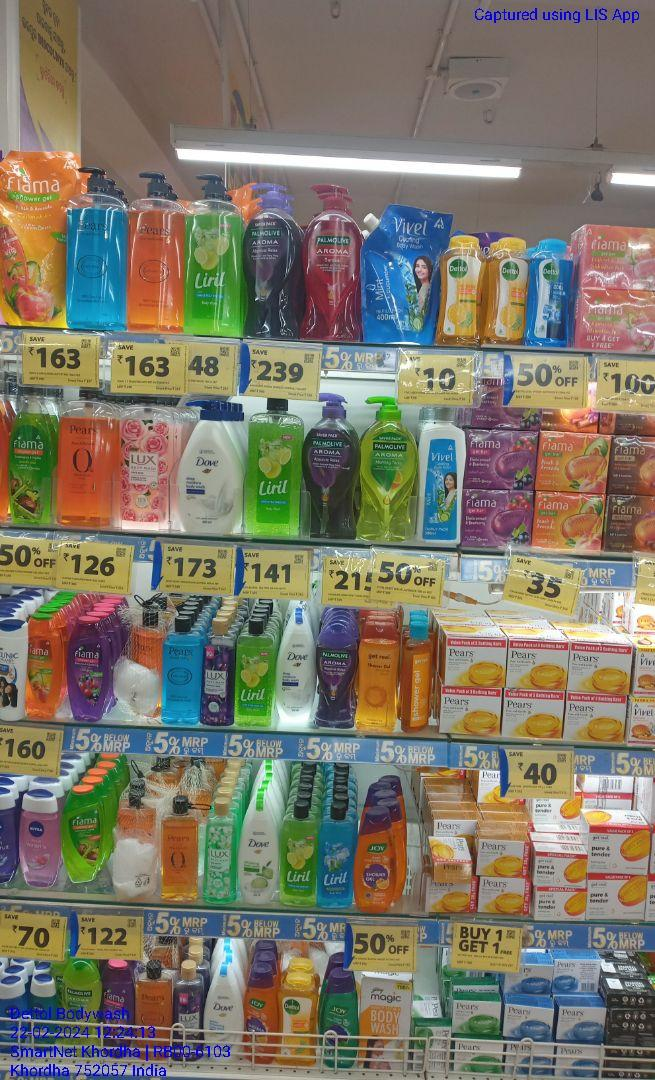Dettol_Bodywash_Cool: (534, 234, 571, 346)
Dettol_Bodywash_Refresh: (438, 234, 483, 342), (486, 237, 525, 346), (280, 972, 315, 1068)
Dove_Deep_Moisture_Body_Wash_250ML: (277, 615, 314, 713)
Dove_Gentle_Exfoliating_Body_Wash_250ML: (205, 967, 244, 1063)
Dove_Refreshing_Body_Wash_250ML: (240, 799, 277, 903)
Fiama_Shower_Gel_Lemongrass_and_Jojoba_250ML: (64, 787, 102, 884)
Fiama_Shower_Gel_Peach_and_Avocado_250ML: (28, 615, 60, 719)
Get_Real_Shower_Gel_Moisturising_Glycerin_300ML: (357, 622, 398, 734)
Joy_Shower_Gel_Mandarin_and_Lemongrass_250ML: (355, 798, 396, 908), (249, 969, 277, 1065)
Joy_Shower_Gel_Mint_and_Eucalyptus_250ML: (320, 974, 357, 1068)
Liril_Cooling_Mint_Body_Wash_250ML: (319, 798, 352, 909)
Liril_Lime_and_Tea_Tree_Oil_Body_Wash_250ML: (238, 612, 272, 725), (281, 808, 316, 907)
Lux_Black_Orchid_Scent_and_Juniper_Oil_Body_Wash_245ML: (203, 615, 234, 725), (173, 968, 203, 1063)
Lux_Body_Wash_Skin_Detox_Freesia_Scent_and_Alove_Vera_245ML: (205, 795, 236, 907)
Nivea_Shower_Gel_Waterlily_and_Oil_250ML: (19, 794, 56, 892)
Palmolive_Aroma_Morning_Tonic_Shower_Gel_250ML: (61, 963, 102, 1057)
Palmolive_Aroma_Relax_250ML: (317, 635, 354, 731)
Pears_Pure_Glycerin_and_Mint_Extracts_Body_Wash_250ML: (164, 615, 199, 737)
